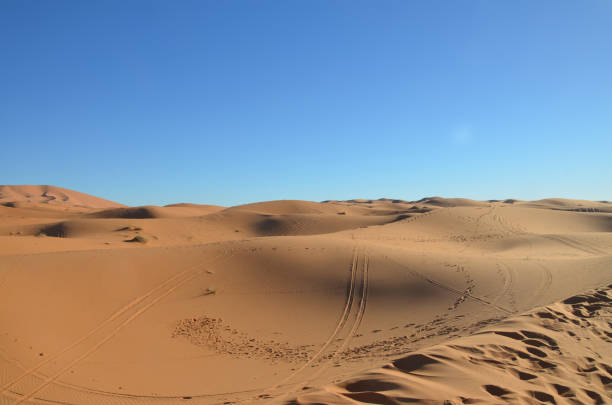vehicle_track: (3, 251, 227, 404), (266, 247, 358, 391), (302, 251, 368, 385), (387, 257, 512, 313), (541, 235, 607, 254), (492, 262, 516, 311)
